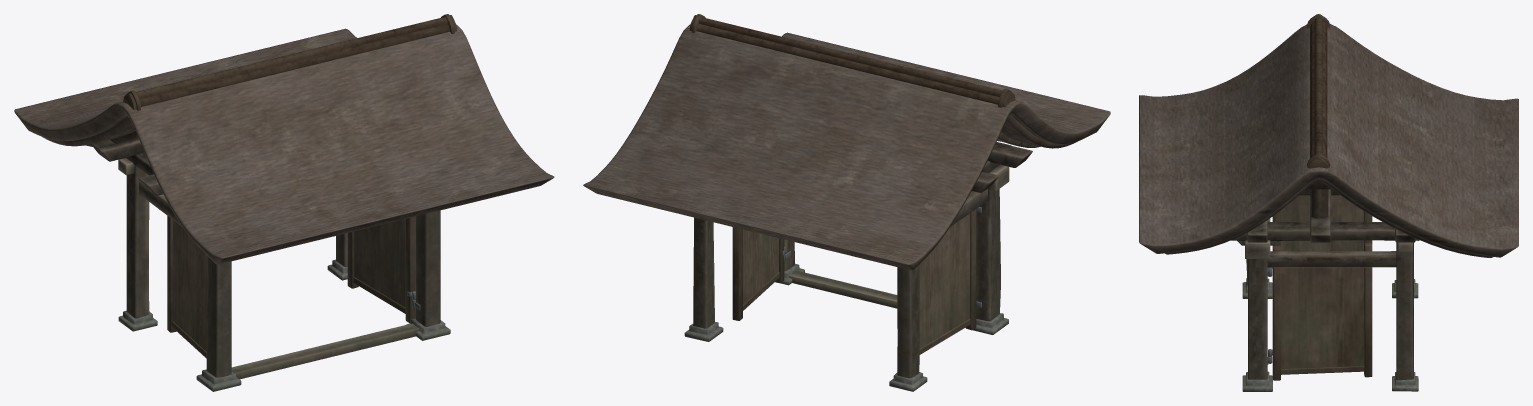
Rendered from ShrineGate.fbx.
The picture shows the model from 3 angles, left to right: view 1: azimuth 30°, elevation 25°; view 2: azimuth 150°, elevation 25°; view 3: azimuth 270°, elevation 25°; orthographic projection. The views are drawn at different scales.
Visible parts, largest first — view 1: ShrineGate; view 2: ShrineGate; view 3: ShrineGate.
Part boxes in pixels (x1,y1,x2,y2): ShrineGate: (14, 14, 554, 391); ShrineGate: (583, 14, 1110, 391); ShrineGate: (1139, 14, 1518, 391).
Size of the model in its own units: 4.45 by 3.56 by 4.8.
